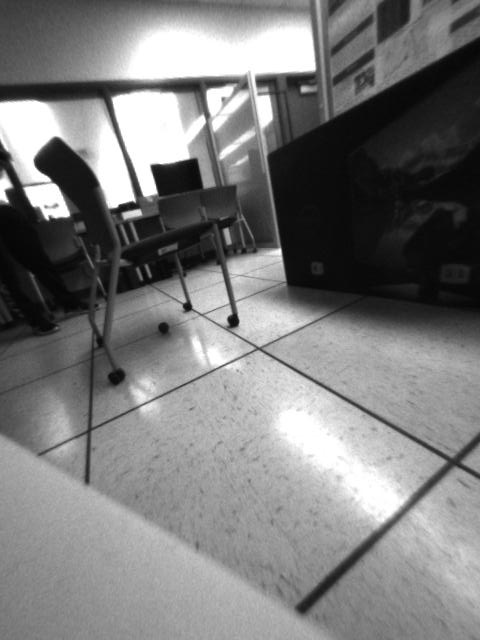dogtoy: (151, 313, 177, 340)
